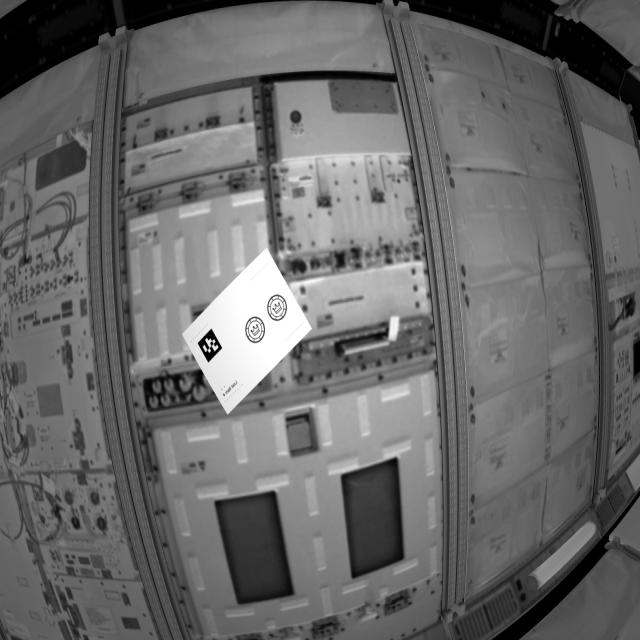coin: (244, 313, 268, 349), (268, 292, 289, 325)
